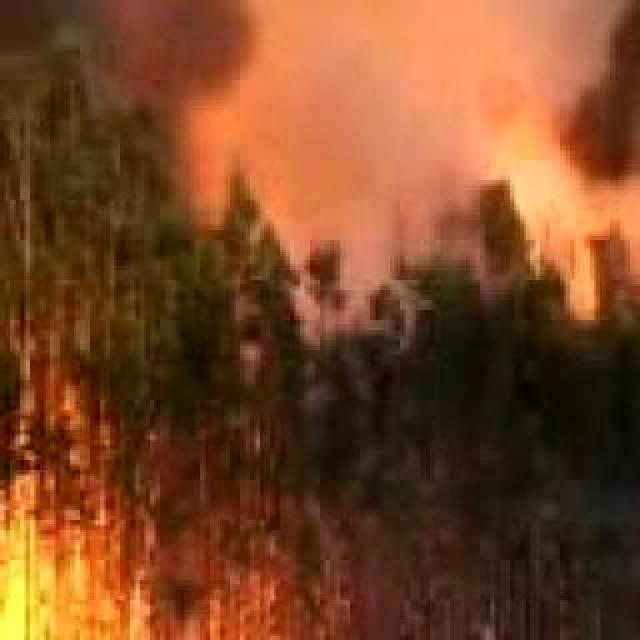fire: (0, 484, 310, 640)
